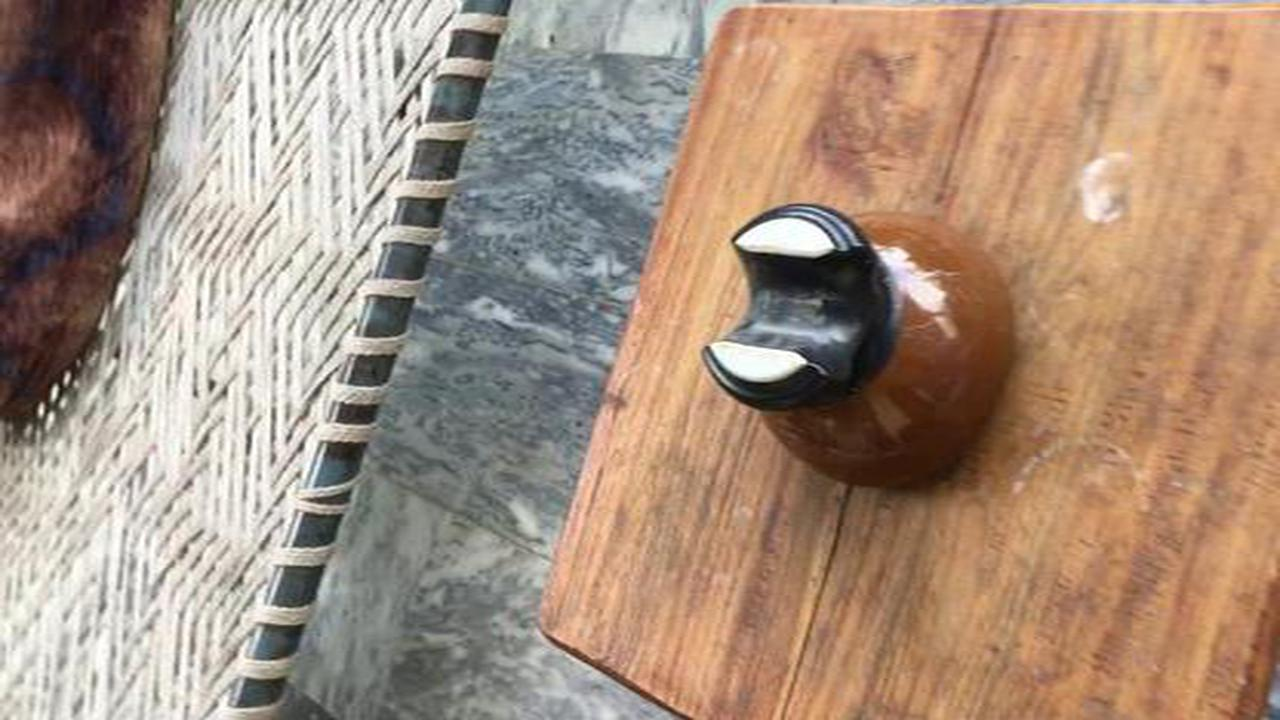insulator_pin: (681, 193, 1034, 502)
